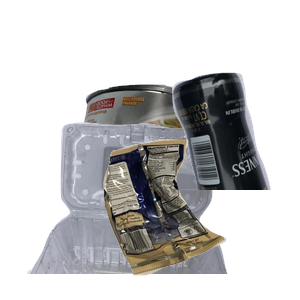glass: (106, 70, 300, 250)
metal: (60, 82, 300, 262)
plastic: (25, 120, 245, 300)
trash: (101, 137, 300, 300)
